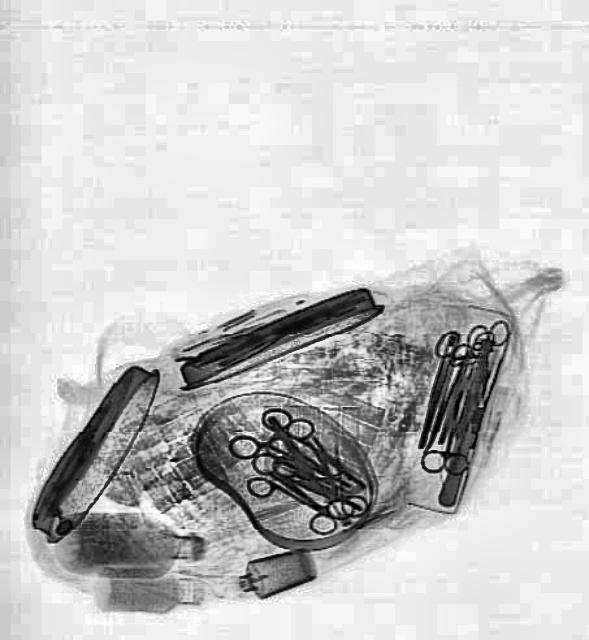Scissors: (237, 448, 333, 528), (277, 469, 357, 543), (418, 388, 480, 478), (446, 327, 508, 398), (462, 318, 506, 388)
